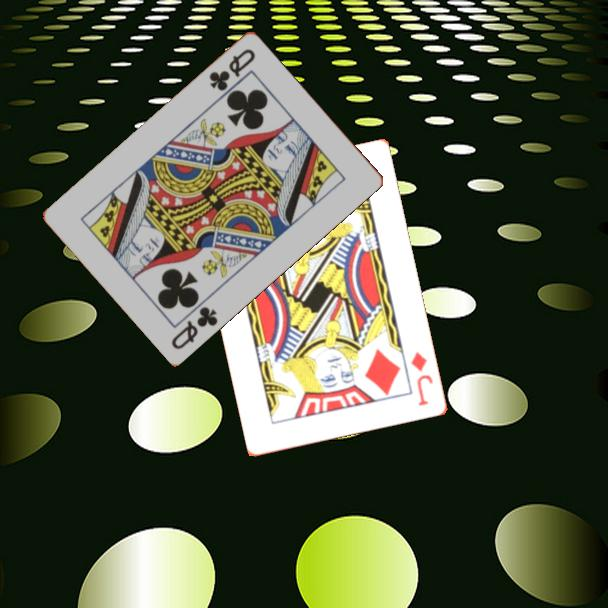c12: (168, 302, 221, 352), (206, 45, 259, 94)
d11: (408, 348, 436, 409)
